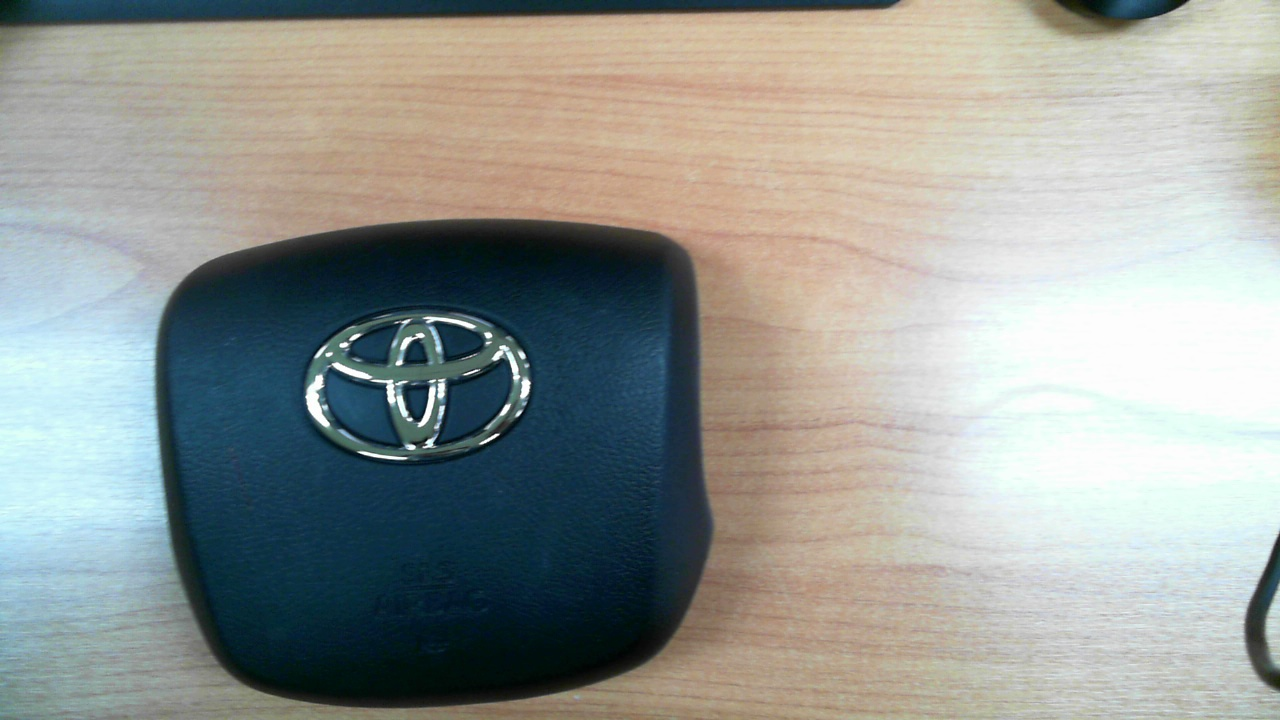Airbag: (162, 220, 713, 705)
Toyota: (304, 309, 532, 462)
